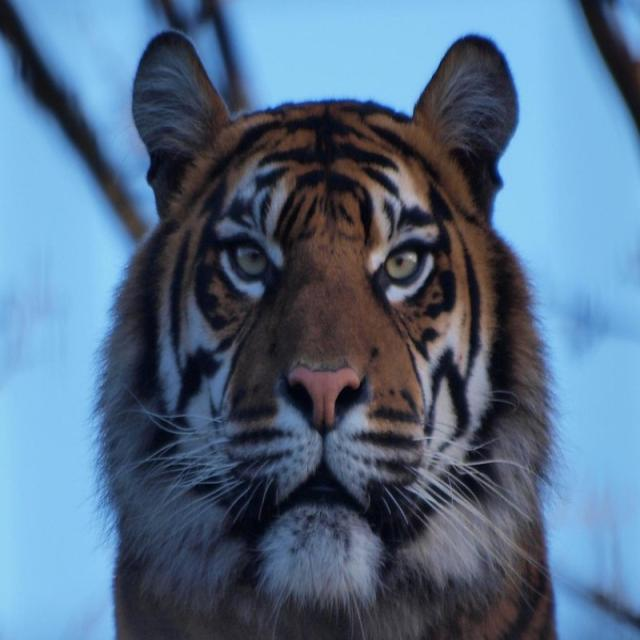Tiger: (104, 32, 554, 639)
